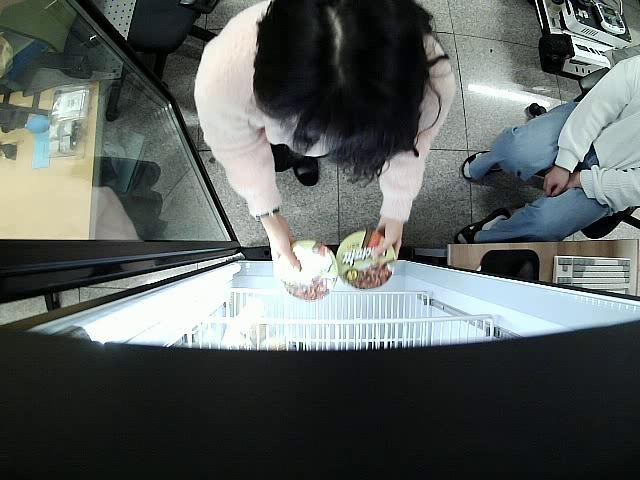03_chapagetti_L: (274, 240, 338, 302), (334, 229, 395, 292)
